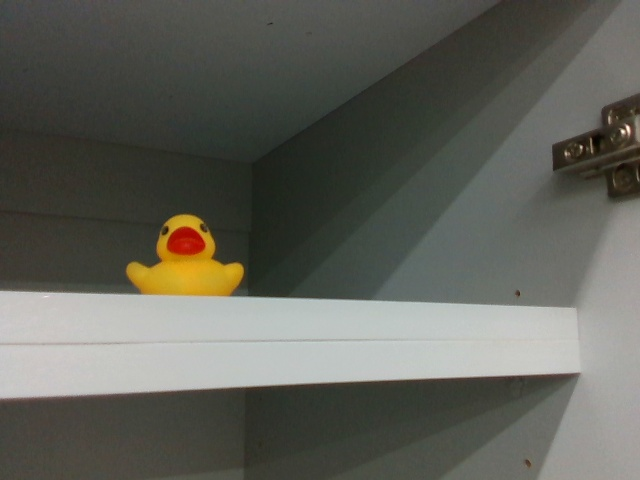duck: (124, 206, 248, 294)
